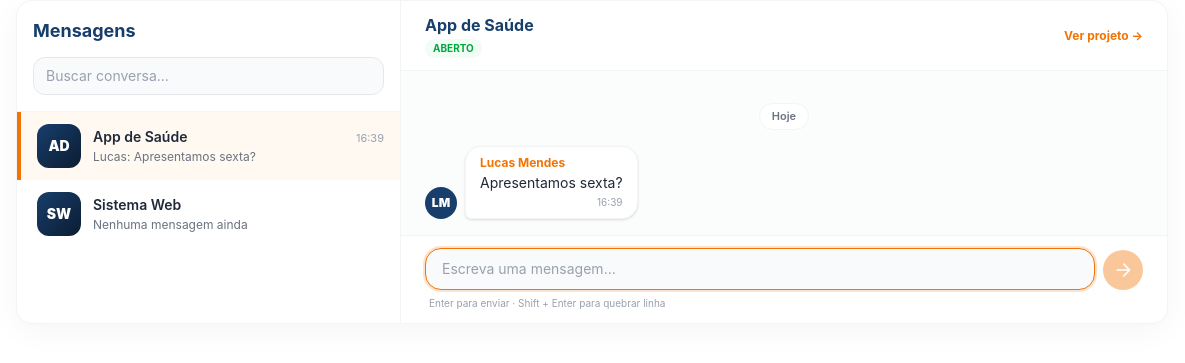
Test: Mensagens › mantém o rascunho e avisa quando não há conexão
The image size is (1185, 363).
Expected: the text "Lucas Mendes" is shown, [480,154,565,170]
Type "Oi" into the text box labelled "mensagem" at coordinates (760, 268), box [425,248,1095,290]
Then press Enter
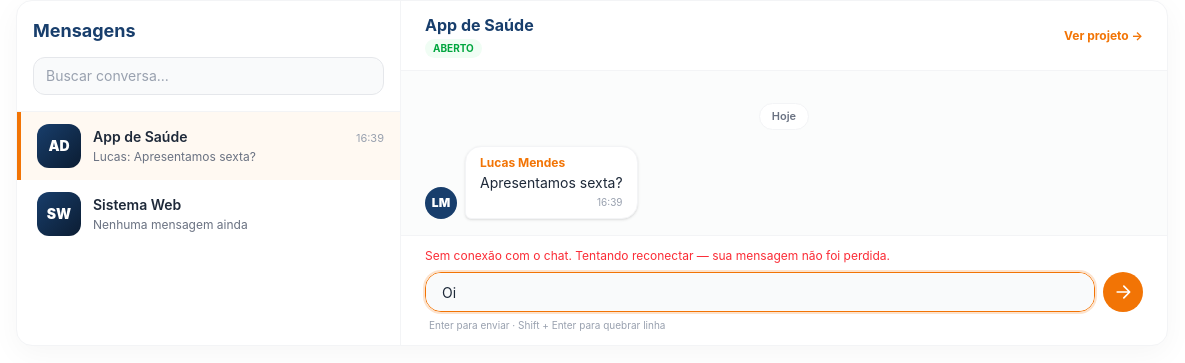
Expected: the message shows "Sem conexão", [425,248,890,262]
